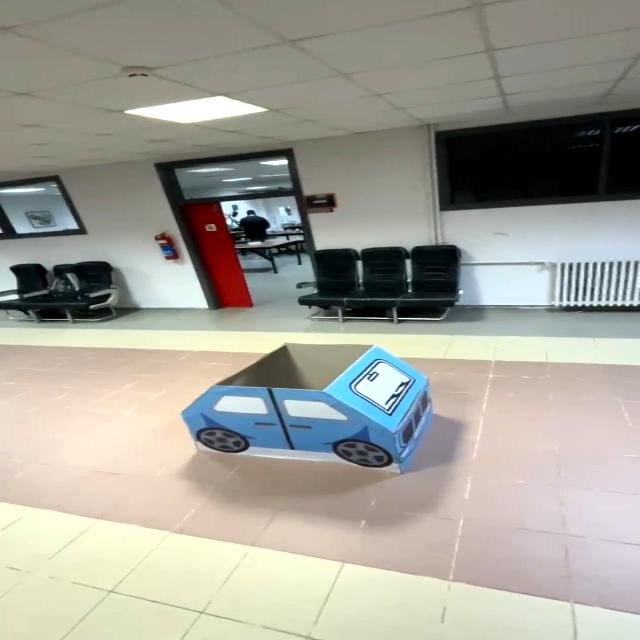blue_car: (157, 335, 474, 503)
